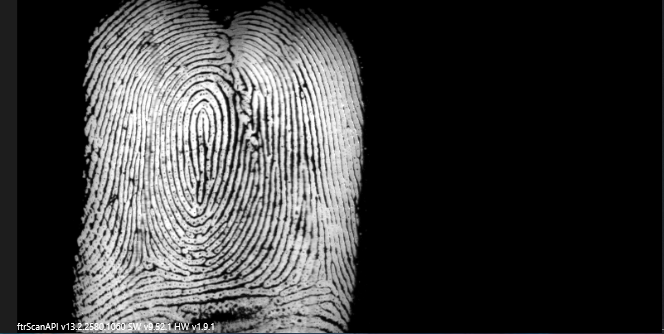nucelo: (186, 95, 223, 156)
verticilo: (126, 245, 159, 274), (312, 266, 341, 297)
